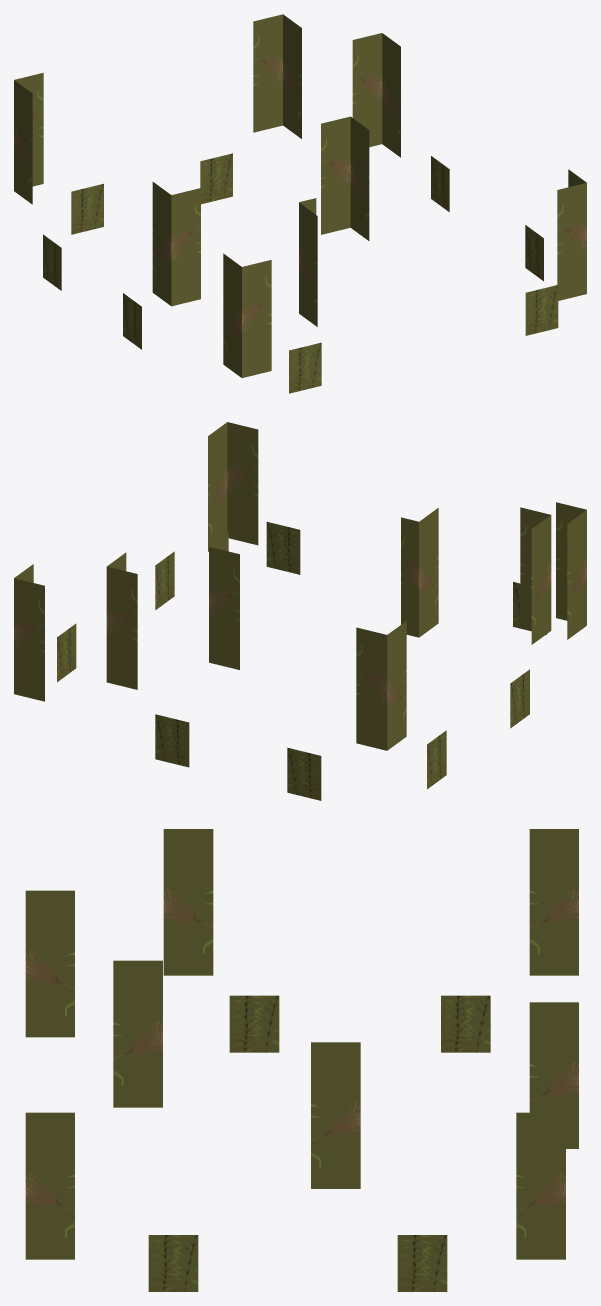
File: house_1_f.dae
3 views of the same model, one above another, from view 1: azimuth 30°, elevation 25°; view 2: azimuth 150°, elevation 25°; view 3: azimuth 270°, elevation 25° (orthographic). The views are drawn at different scales.
Visible parts, largest first — view 1: house_1_f; view 2: house_1_f; view 3: house_1_f.
Part boxes in pixels (bbox=[...]): house_1_f: bbox=[14, 14, 586, 393]; house_1_f: bbox=[14, 422, 586, 800]; house_1_f: bbox=[25, 829, 578, 1291].
Size of the model in its own units: 3.95 by 4 by 1.75.
1 material, 1 textured.
